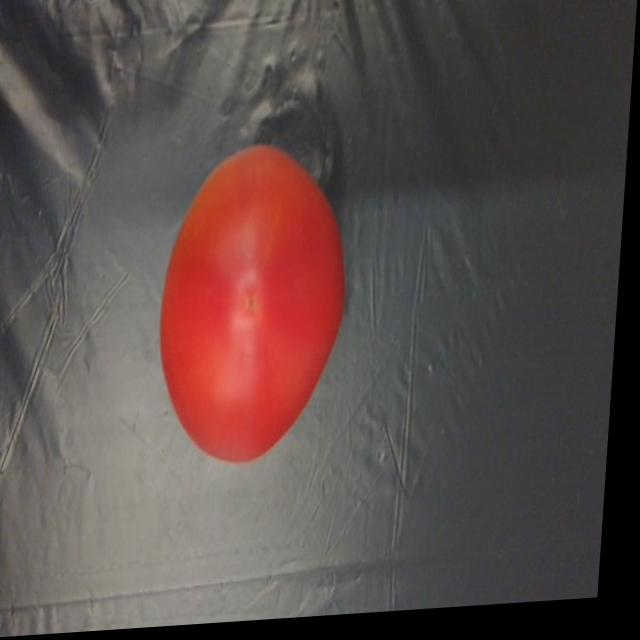kirmizi: (153, 131, 369, 488)
